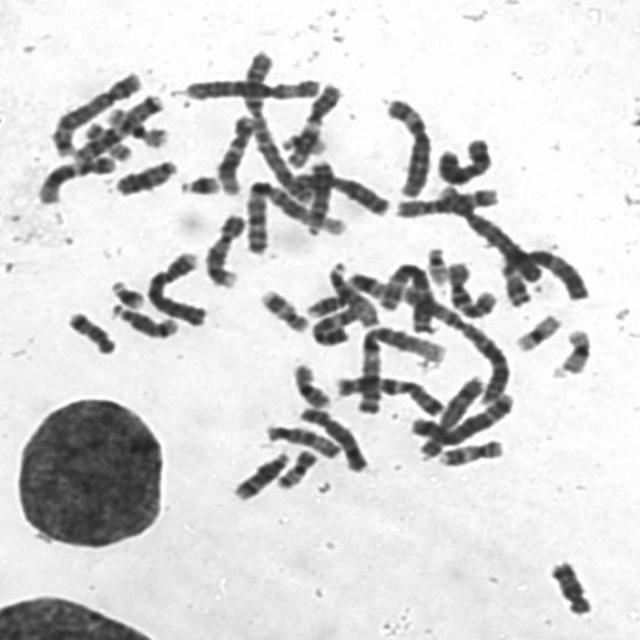A1: (239, 171, 356, 256), (350, 319, 450, 417)
A2: (385, 277, 512, 407), (236, 42, 315, 206)
A3: (495, 241, 593, 306), (380, 257, 440, 336)
B4: (432, 179, 544, 282), (141, 245, 210, 327)
B5: (44, 65, 146, 159), (408, 386, 517, 452)
C10: (388, 181, 502, 219), (440, 255, 500, 320)
C11: (280, 77, 346, 169), (306, 300, 363, 347)
C12: (32, 148, 120, 207), (211, 108, 257, 196)
C6: (378, 91, 436, 199), (180, 70, 325, 103)
C7: (67, 87, 165, 163), (330, 368, 448, 417)
C8: (414, 369, 489, 462), (294, 401, 372, 474)
C9: (198, 208, 248, 290), (306, 300, 363, 347)
D13: (110, 153, 180, 198), (301, 154, 337, 236)
D14: (226, 444, 293, 503), (105, 298, 181, 340)
D15: (322, 257, 382, 329), (260, 418, 342, 460)
E16: (99, 101, 171, 149), (286, 357, 334, 410)
E17: (254, 283, 312, 334), (432, 434, 506, 468)
E18: (544, 554, 596, 617), (61, 305, 120, 357)
F19: (549, 322, 595, 378), (510, 308, 565, 354)
F20: (79, 117, 134, 162), (270, 443, 320, 491)
G21: (104, 274, 149, 310), (174, 167, 223, 196)
G22: (276, 126, 328, 156), (421, 240, 452, 286)
X: (284, 164, 391, 218), (430, 131, 497, 187)
